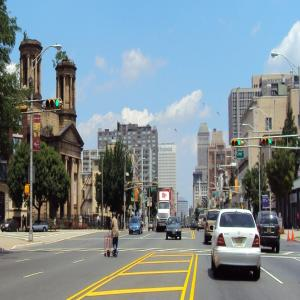Vehicle-registration-plate: (235, 240, 245, 248)
